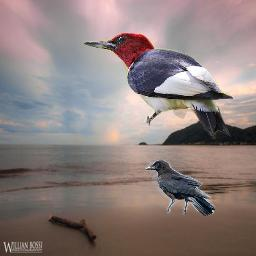Crow: (145, 160, 215, 216)
Woodpecker: (84, 33, 233, 139)
